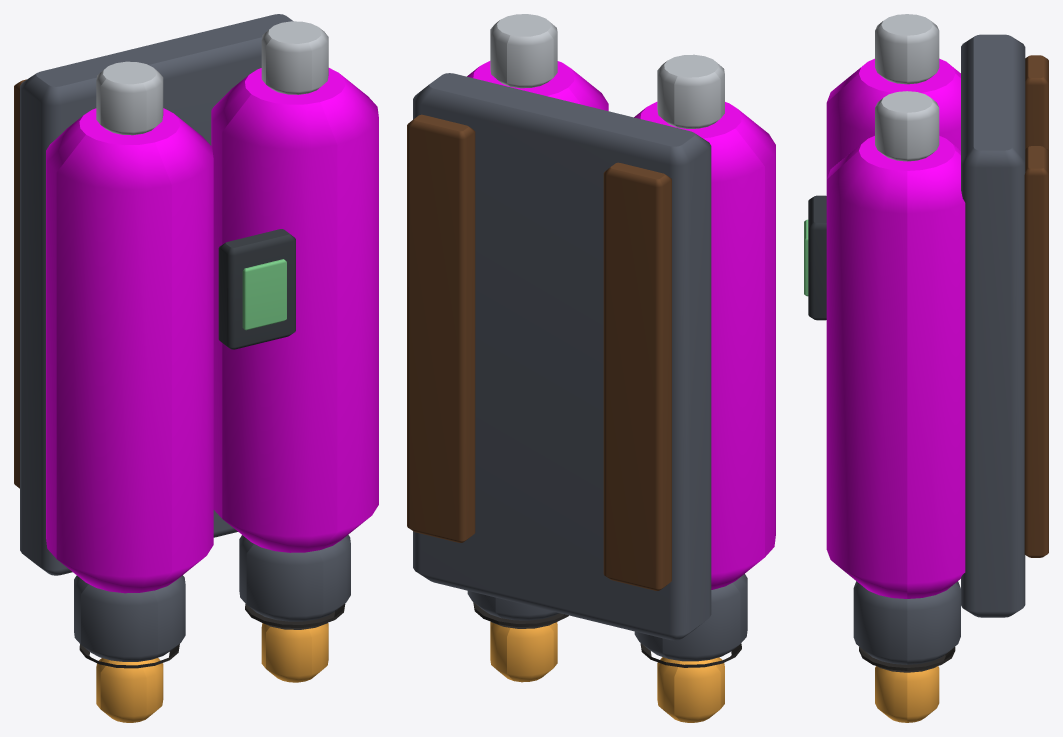
File: objet_propulseur.glb
3 views of the same model, side by side, from view 1: azimuth 30°, elevation 25°; view 2: azimuth 150°, elevation 25°; view 3: azimuth 270°, elevation 25° (orthographic). The views are drawn at different scales.
Visible parts, largest first — view 1: jetpack_teinte.002, jetpack_exo_metal.002, jetpack_rivet.002, jetpack_flamme_jet.002, jetpack_teinte_sombre.002, jetpack_exo_vert.002, jetpack_sac_cuir.002, jetpack_semelle.002; view 2: jetpack_exo_metal.002, jetpack_sac_cuir.002, jetpack_teinte.002, jetpack_rivet.002, jetpack_flamme_jet.002, jetpack_semelle.002; view 3: jetpack_teinte.002, jetpack_exo_metal.002, jetpack_sac_cuir.002, jetpack_rivet.002, jetpack_flamme_jet.002, jetpack_teinte_sombre.002, jetpack_semelle.002.
Part boxes in pixels (x1=…): jetpack_teinte.002: x1=46, y1=68, x2=378, y2=593; jetpack_exo_metal.002: x1=20, y1=14, x2=350, y2=661; jetpack_rivet.002: x1=96, y1=21, x2=328, y2=135; jetpack_flamme_jet.002: x1=96, y1=623, x2=328, y2=722; jetpack_teinte_sombre.002: x1=218, y1=229, x2=295, y2=349; jetpack_exo_vert.002: x1=242, y1=259, x2=286, y2=330; jetpack_sac_cuir.002: x1=14, y1=79, x2=26, y2=488; jetpack_semelle.002: x1=79, y1=603, x2=345, y2=668; jetpack_exo_metal.002: x1=413, y1=73, x2=747, y2=661; jetpack_sac_cuir.002: x1=407, y1=114, x2=671, y2=590; jetpack_teinte.002: x1=467, y1=61, x2=775, y2=589; jetpack_rivet.002: x1=490, y1=14, x2=724, y2=128; jetpack_flamme_jet.002: x1=490, y1=622, x2=724, y2=722; jetpack_semelle.002: x1=473, y1=602, x2=741, y2=667; jetpack_teinte.002: x1=826, y1=58, x2=965, y2=598; jetpack_exo_metal.002: x1=853, y1=34, x2=1025, y2=664; jetpack_sac_cuir.002: x1=1024, y1=55, x2=1048, y2=557; jetpack_rivet.002: x1=875, y1=14, x2=939, y2=161; jetpack_flamme_jet.002: x1=875, y1=666, x2=939, y2=722; jetpack_teinte_sombre.002: x1=808, y1=195, x2=826, y2=320; jetpack_semelle.002: x1=859, y1=647, x2=955, y2=672.
Size of the model in its own units: 0.16 by 0.315 by 0.114.
